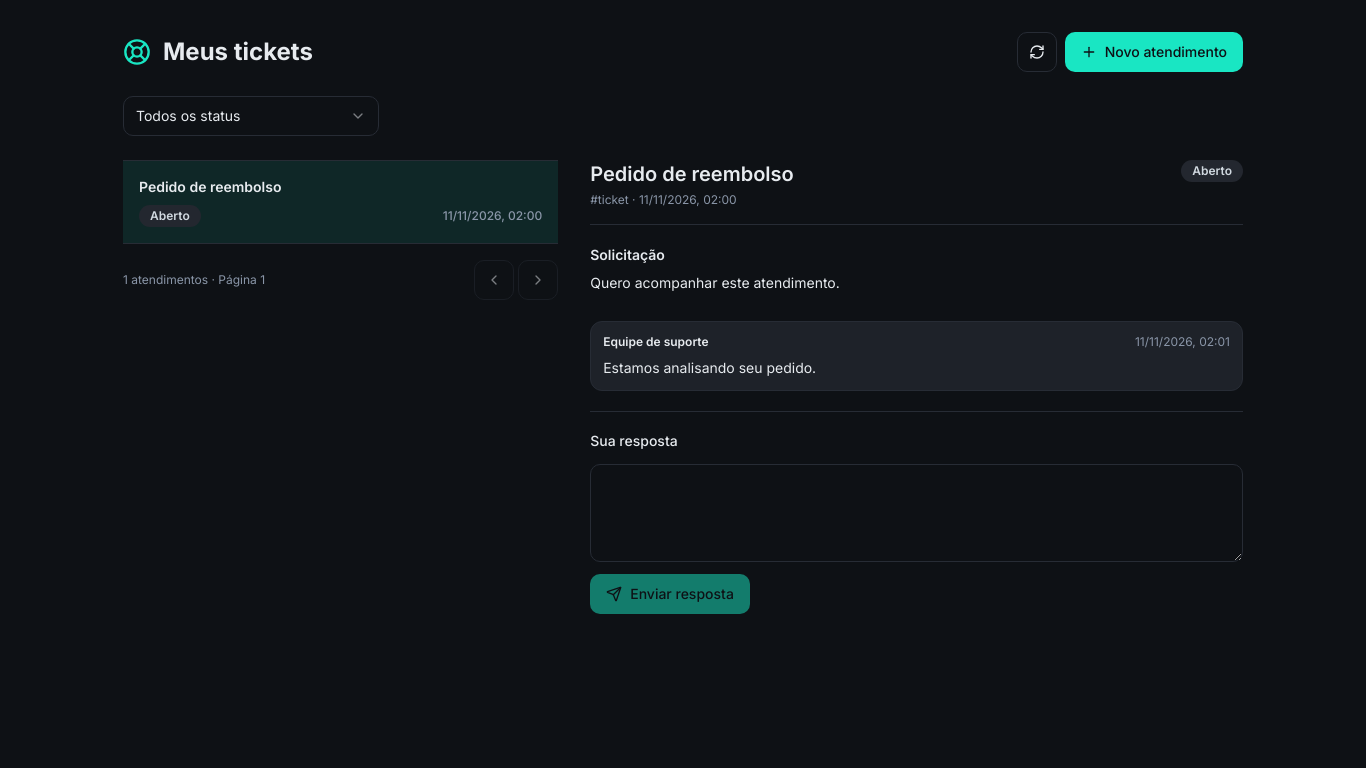
support ticket history › reads the conversation, sends a reply, and reloads the saved message
Expected: the text "Estamos analisando seu pedido." is shown, [603,359,816,376]
Type "Mensagem persistida" into the text box labelled "Sua resposta" at (917, 513), box [590,464,1243,562]
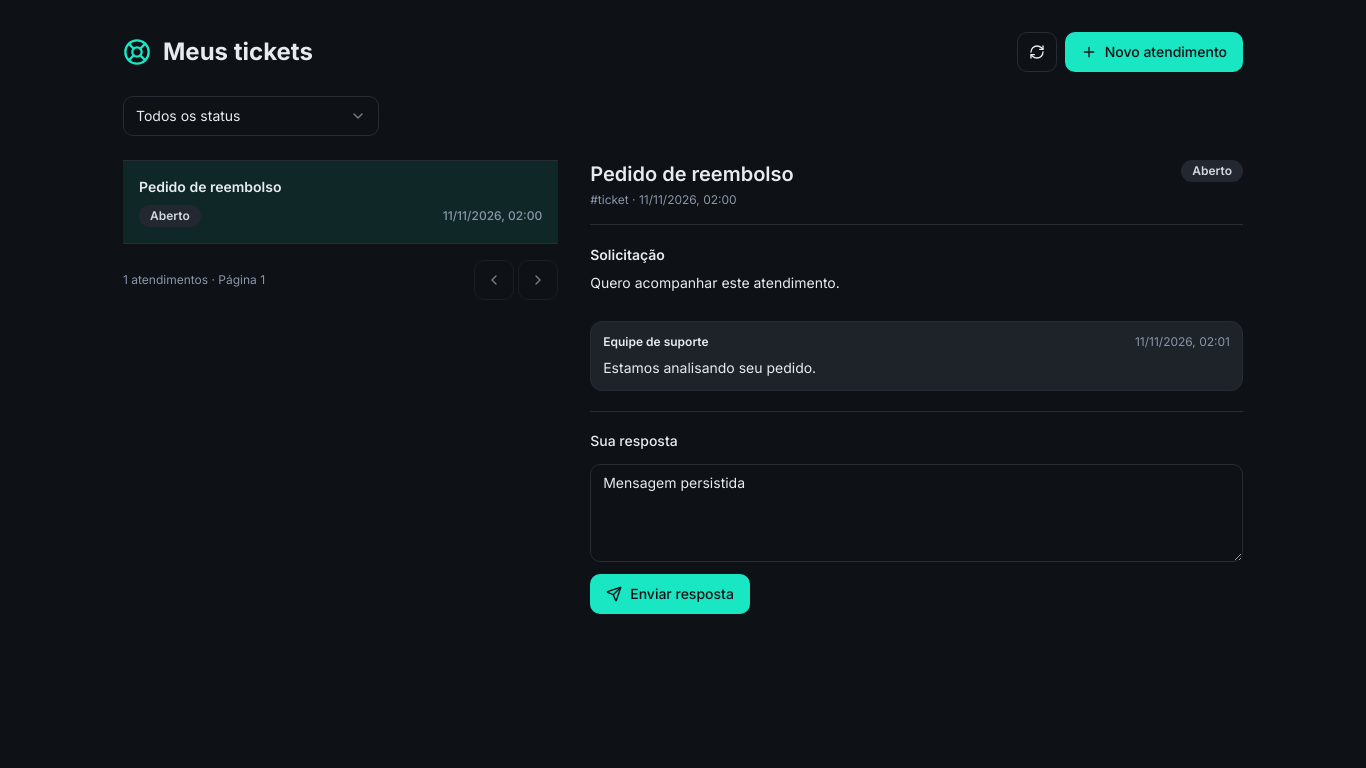
Click the button "Enviar resposta" at (670, 594), box [590,574,750,614]
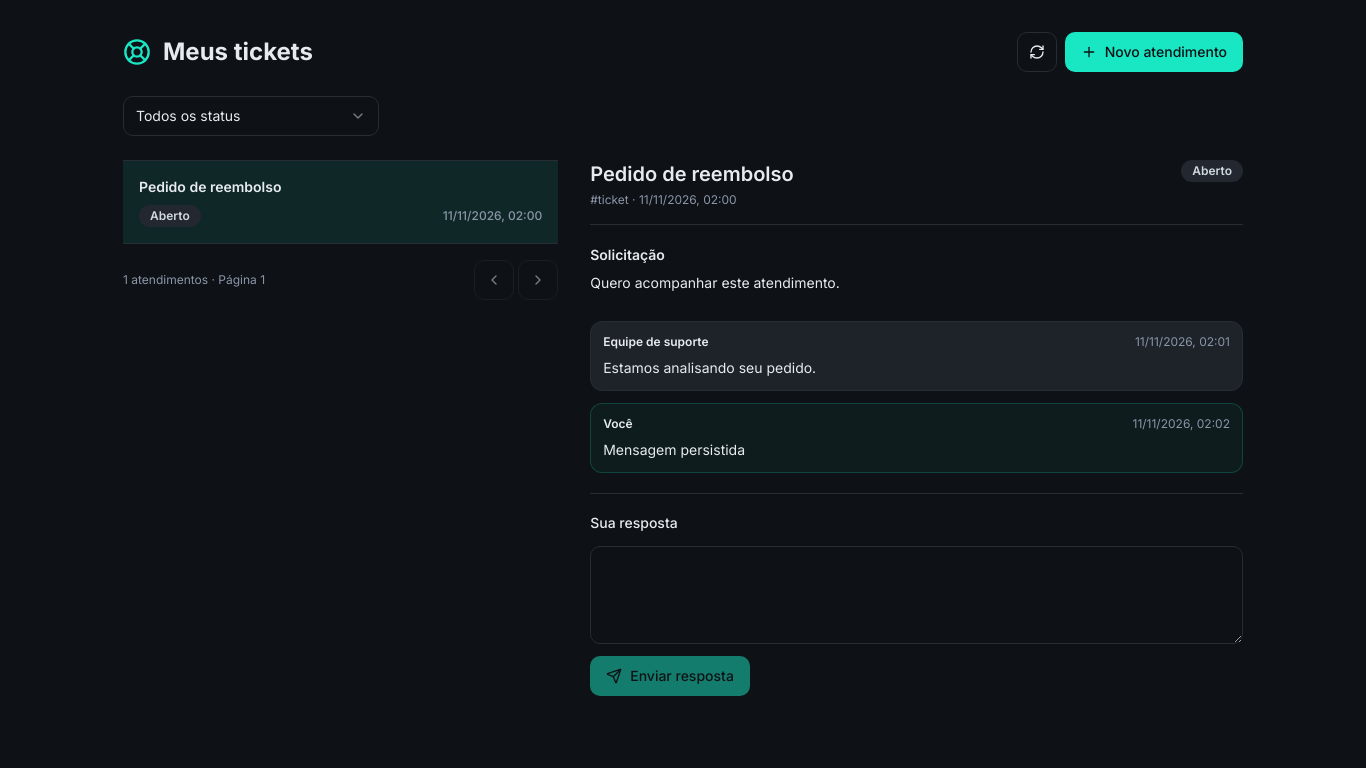
Now the text "Mensagem persistida" is shown, box [603,441,745,458]
